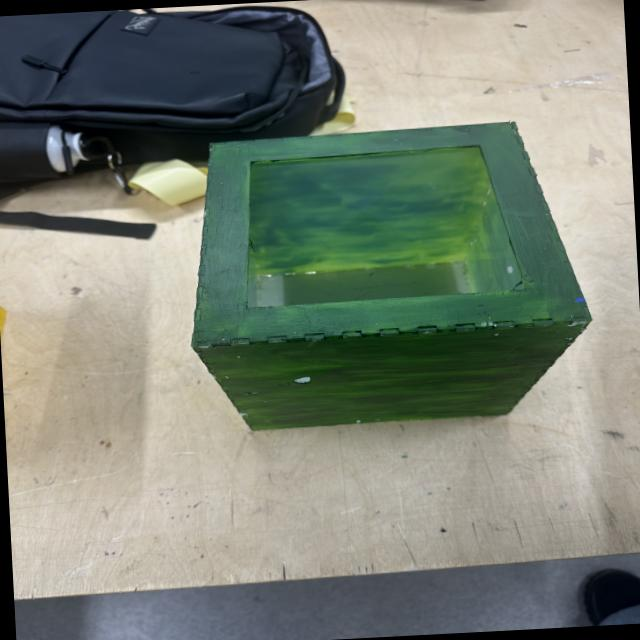green_bin: (180, 117, 598, 436)
